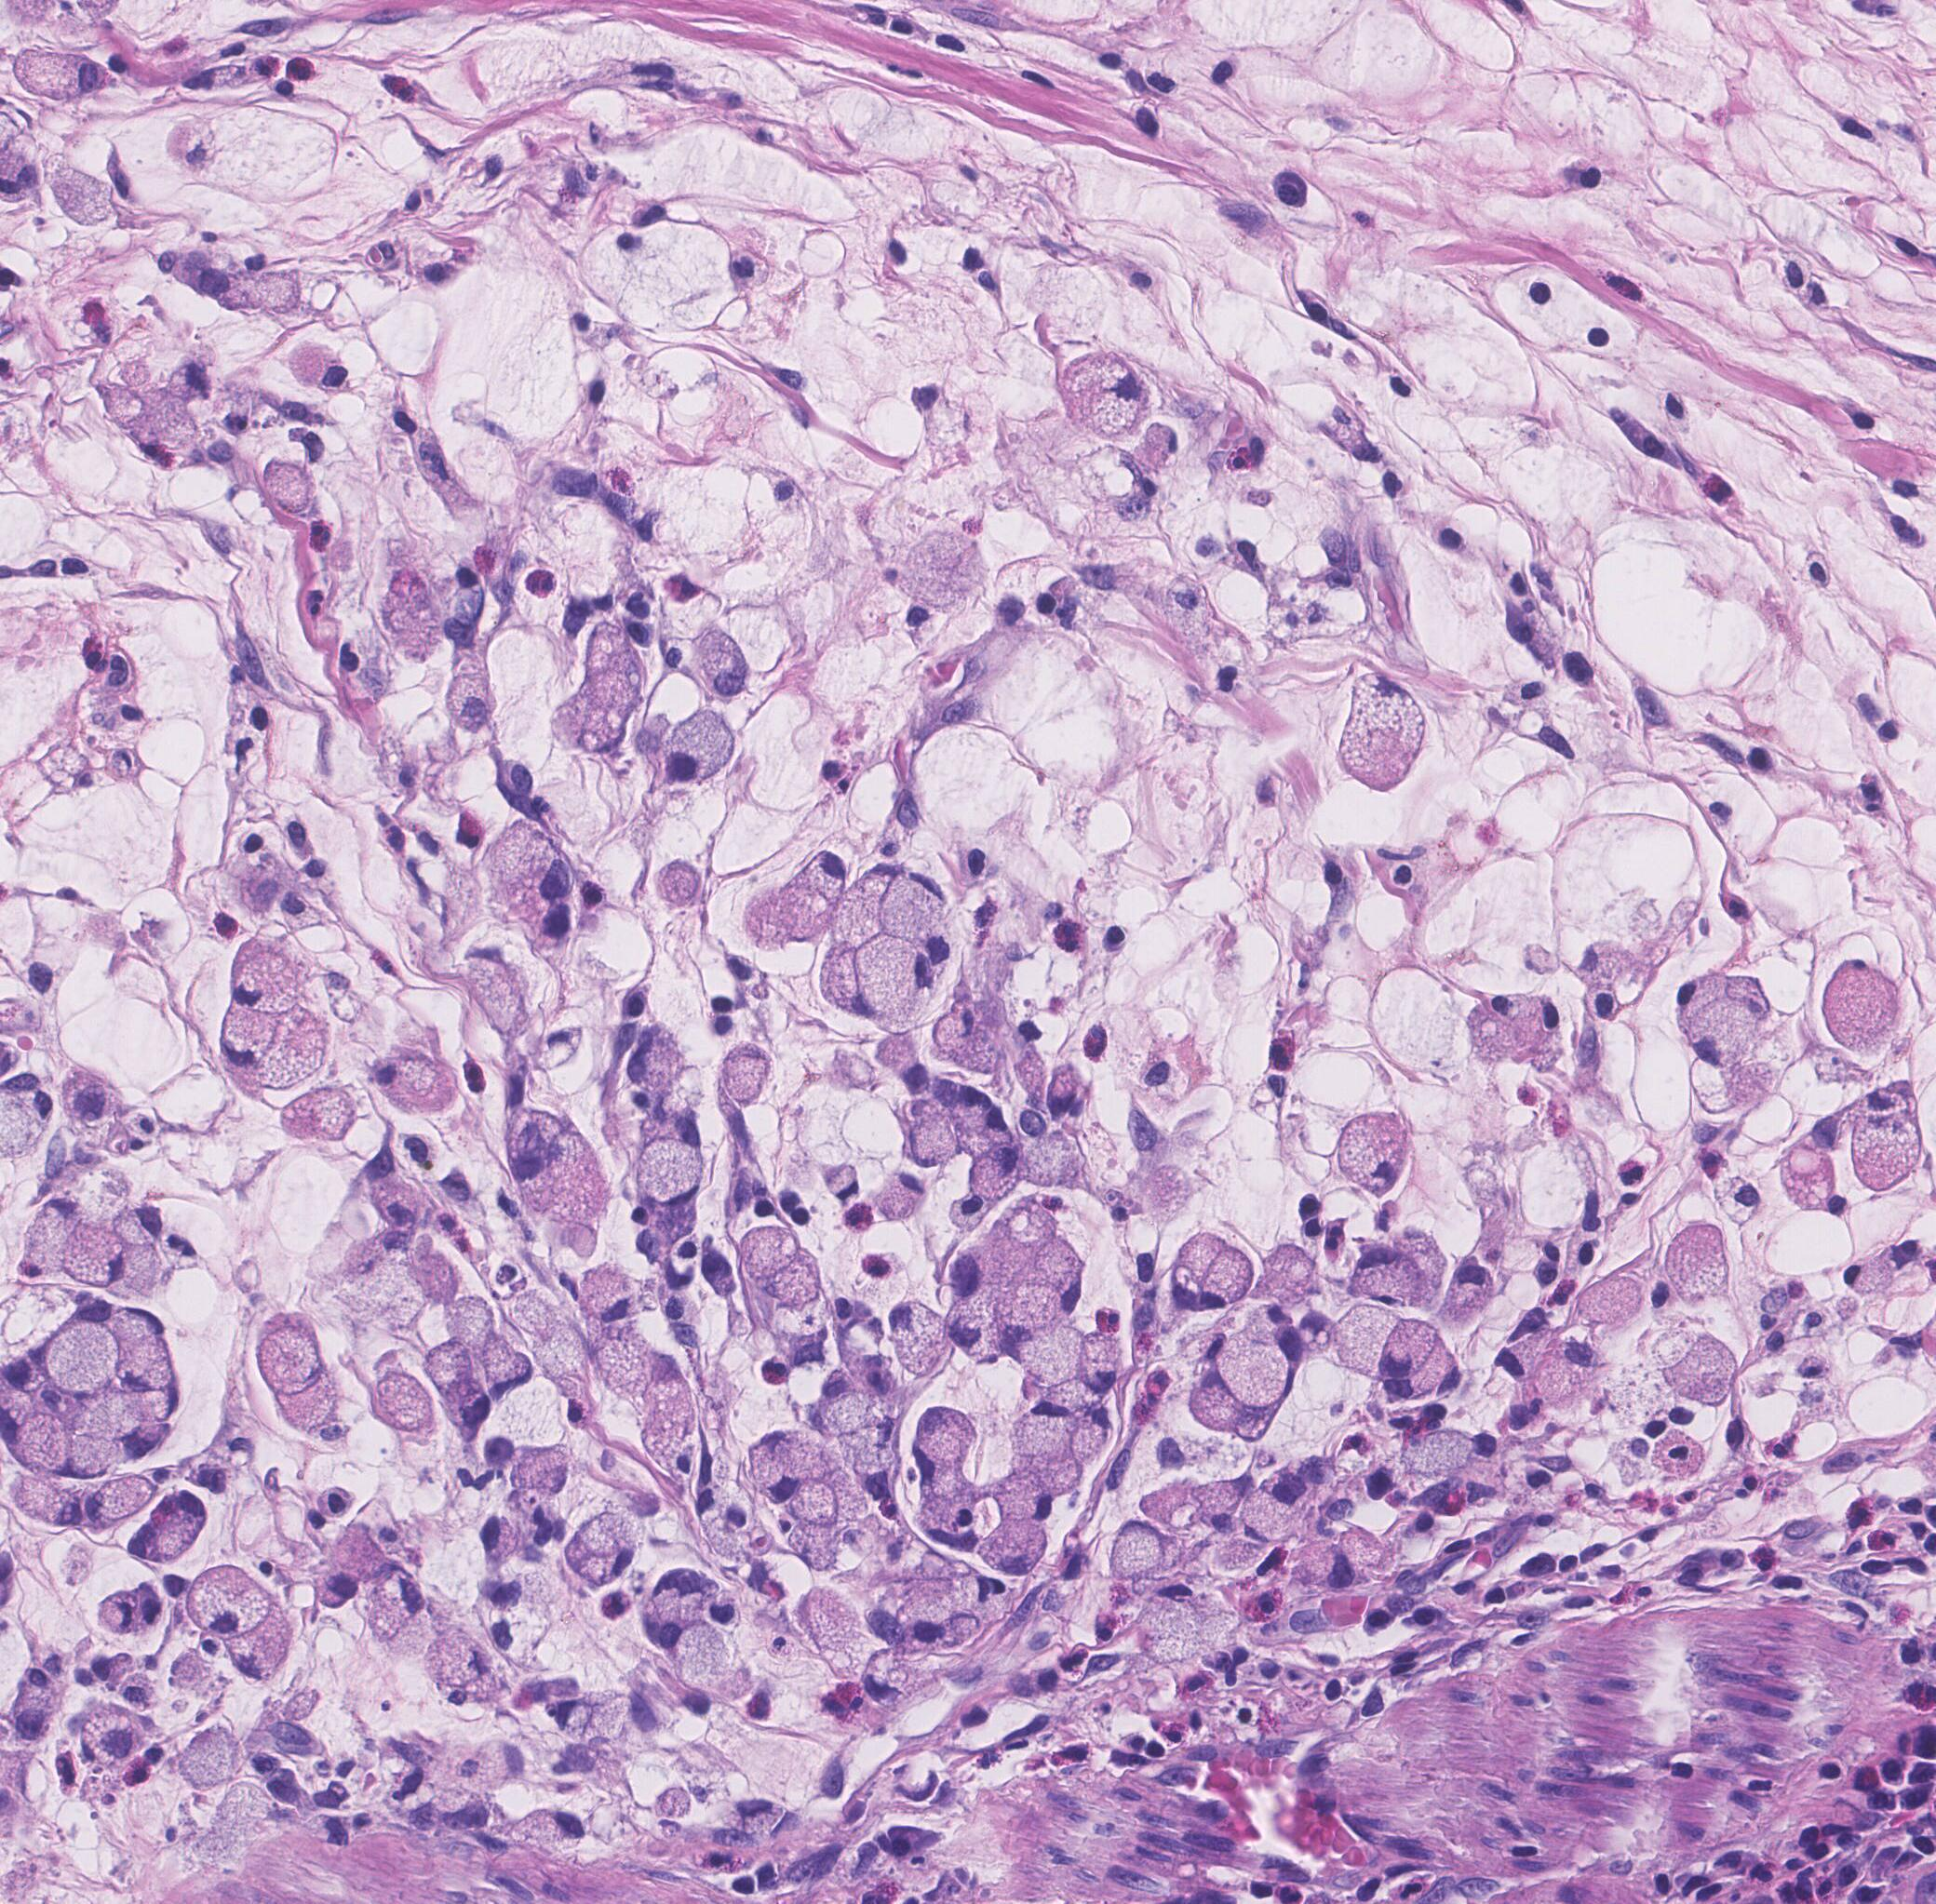ring_cell_cancer: (577, 192, 743, 340), (169, 96, 344, 213), (501, 1107, 614, 1238), (549, 621, 647, 760), (610, 1329, 712, 1459), (1334, 668, 1432, 800), (208, 996, 335, 1093), (1817, 936, 1912, 1064), (745, 844, 848, 959), (886, 1559, 982, 1663), (330, 1233, 427, 1334), (855, 928, 945, 1034), (1683, 962, 1774, 1067), (1214, 1318, 1308, 1414), (480, 823, 579, 914), (898, 520, 991, 615), (1141, 1581, 1238, 1672), (1334, 1105, 1416, 1205), (1851, 1083, 1922, 1194), (1463, 989, 1564, 1067), (37, 1313, 126, 1402), (248, 1308, 335, 1397), (126, 1484, 216, 1569), (1066, 352, 1149, 445), (225, 933, 319, 1015), (375, 1036, 460, 1125), (12, 33, 106, 113), (731, 1431, 832, 1503), (112, 1304, 187, 1398), (185, 1561, 281, 1634), (560, 1508, 640, 1594), (427, 1341, 495, 1440), (382, 561, 447, 666), (351, 1557, 426, 1644), (671, 701, 740, 797), (1666, 1221, 1737, 1311), (1669, 1332, 1748, 1414), (77, 1461, 162, 1536), (45, 157, 127, 234), (937, 1294, 1015, 1372), (220, 1606, 302, 1681), (935, 997, 1010, 1079), (987, 1283, 1069, 1357), (647, 1566, 720, 1646), (886, 1299, 956, 1383), (635, 1135, 710, 1212), (682, 1622, 748, 1707), (1395, 1426, 1502, 1479), (1238, 1473, 1310, 1550), (937, 1229, 1017, 1297), (694, 624, 760, 706), (1327, 1306, 1406, 1374), (628, 1017, 685, 1109), (1350, 1243, 1430, 1309), (876, 870, 951, 940), (78, 1703, 150, 1775), (9, 1470, 82, 1540), (185, 1716, 248, 1796), (1033, 1236, 1095, 1316), (1777, 1140, 1844, 1215), (58, 1064, 131, 1130), (256, 455, 323, 527), (910, 1398, 975, 1472), (569, 1261, 644, 1323), (1167, 1227, 1219, 1316), (1008, 1397, 1076, 1465), (424, 1627, 494, 1693), (1200, 1241, 1266, 1309), (365, 1376, 433, 1442), (63, 1221, 127, 1290), (813, 1370, 883, 1435), (977, 1515, 1048, 1578), (1376, 1313, 1435, 1388), (842, 1423, 900, 1499), (1575, 1273, 1646, 1334), (516, 1803, 588, 1860), (1019, 1126, 1083, 1189), (1294, 1536, 1359, 1599), (1109, 1519, 1170, 1585), (12, 1665, 63, 1744), (715, 1044, 778, 1107), (368, 1168, 426, 1236), (1442, 1259, 1496, 1330), (480, 1336, 537, 1402), (513, 1438, 572, 1501), (290, 342, 351, 401), (909, 1105, 963, 1172), (448, 670, 501, 738), (767, 1252, 821, 1313), (876, 1165, 930, 1226), (734, 1226, 801, 1275), (970, 1142, 1020, 1203), (1650, 1428, 1708, 1480), (1844, 1248, 1896, 1301), (474, 1515, 521, 1567), (1045, 1065, 1088, 1119), (169, 357, 215, 405)
